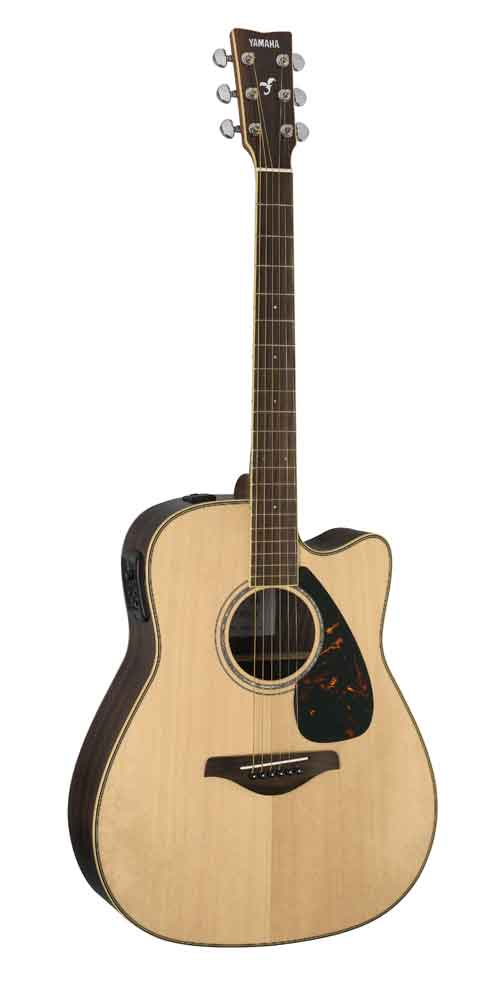guitar: (66, 28, 441, 951)
